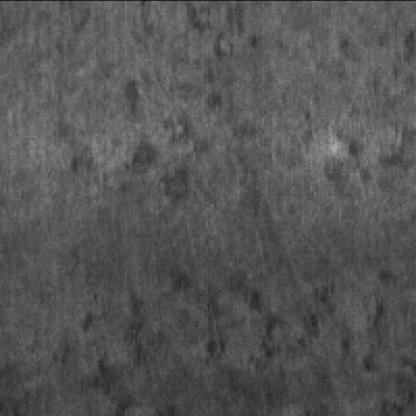rolled-in_scale: (75, 277, 413, 416), (220, 94, 410, 210), (62, 73, 225, 208)
